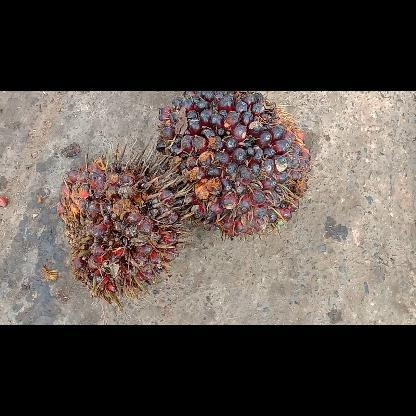Kurang masak: (156, 90, 314, 240)
TBS masak: (57, 139, 193, 307)
